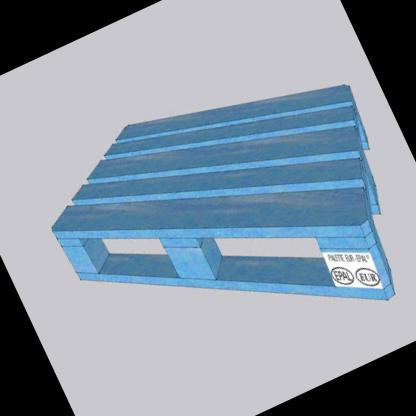BoxFace: (50, 82, 398, 304)
